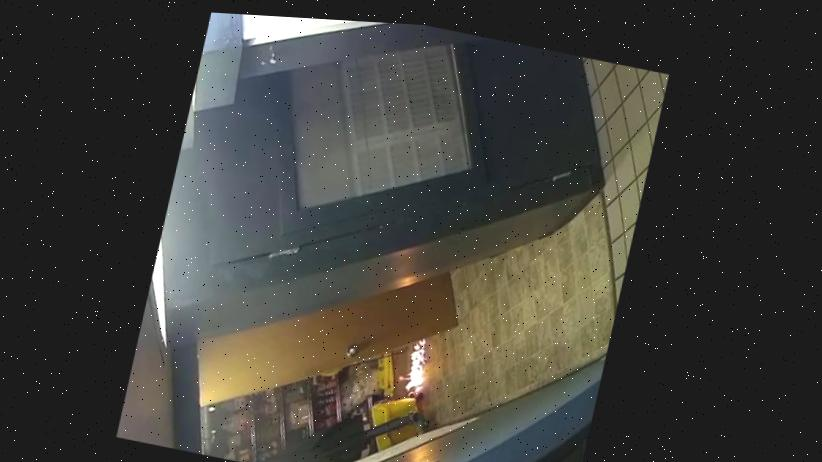fire: (387, 303, 456, 423)
